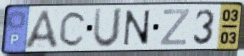3: (192, 8, 216, 47)
A: (22, 9, 61, 51)
C: (58, 9, 89, 48)
N: (123, 9, 152, 47)
U: (91, 6, 125, 50)
Z: (159, 7, 192, 47)
